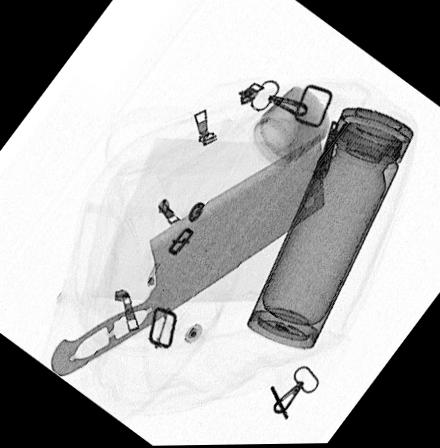Knife: (50, 136, 325, 378)
